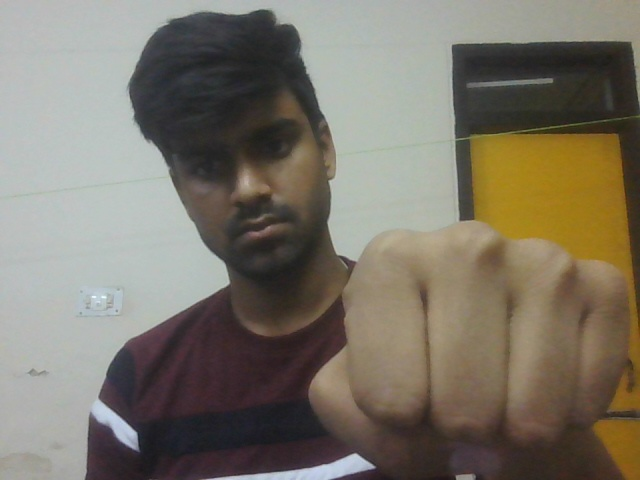yes: (305, 208, 640, 480)
